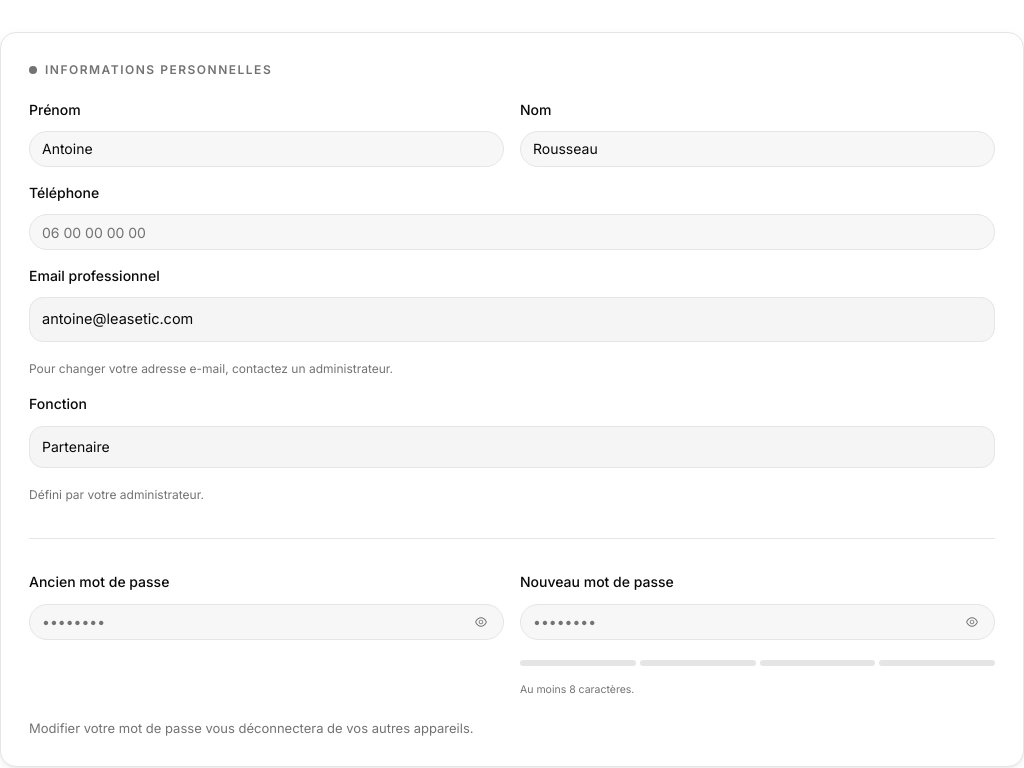
Test: ParametresForm › Test 6: clearing a required identity field marks it aria-invalid with an alert
Clear the field labelled "Prénom" at (266, 149), box [29,131,504,167]
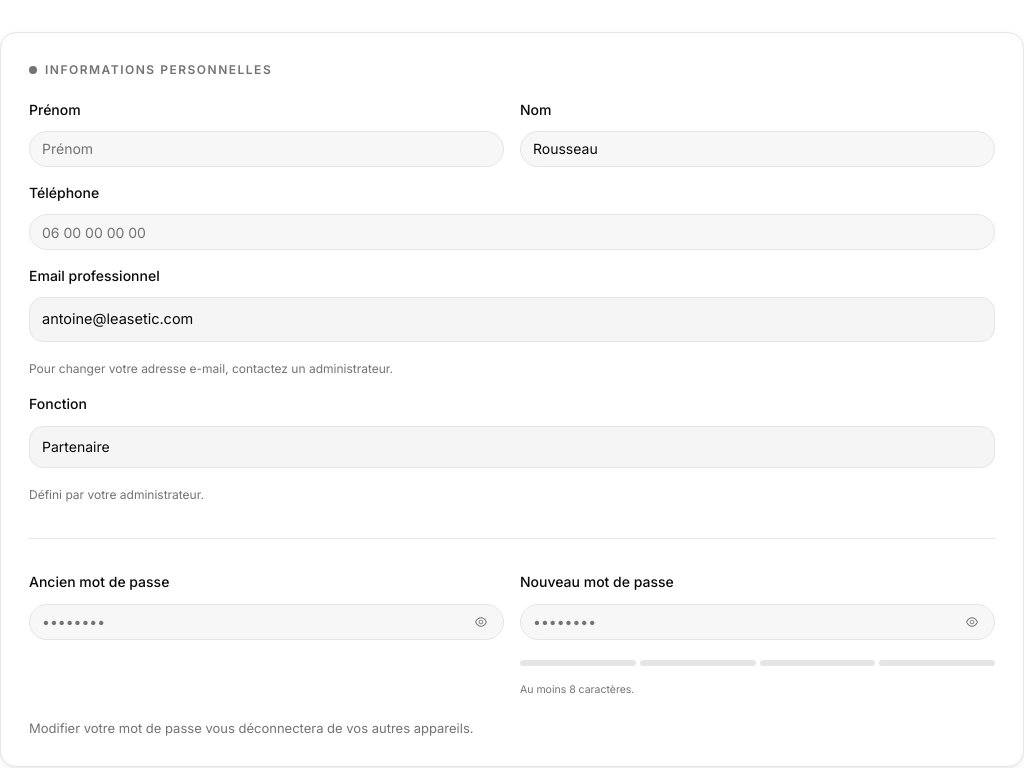
Leave the field labelled "Prénom", box [29,131,504,167]
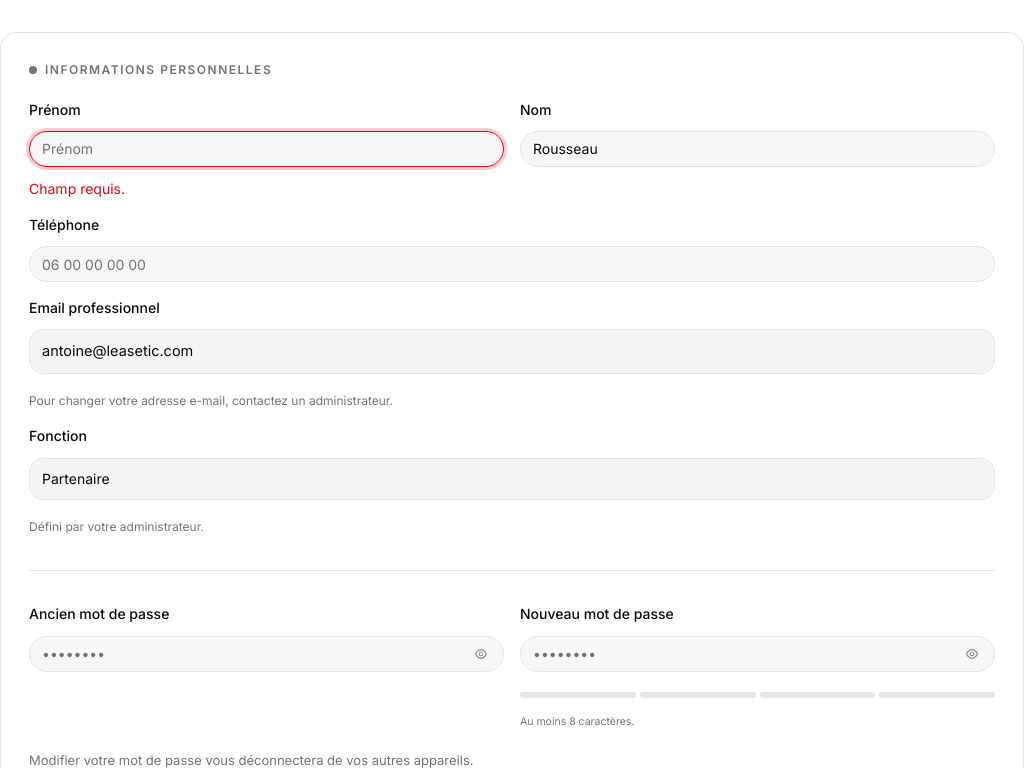
Expected: the message "Champ requis." is shown, [29,180,125,197]
